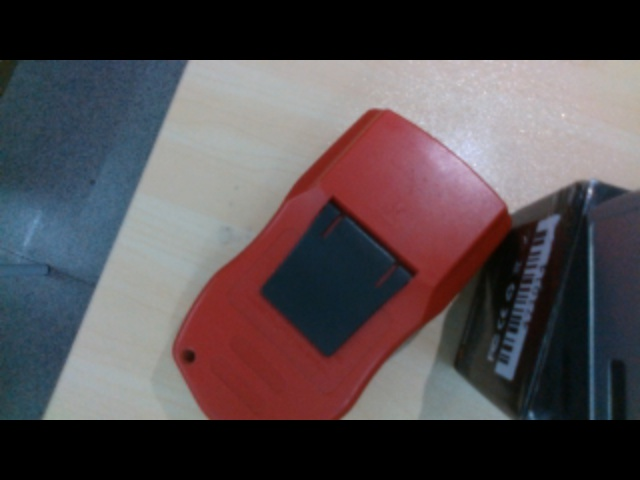Multimeter: (171, 107, 514, 421)
Screw holes: (181, 347, 197, 363)
